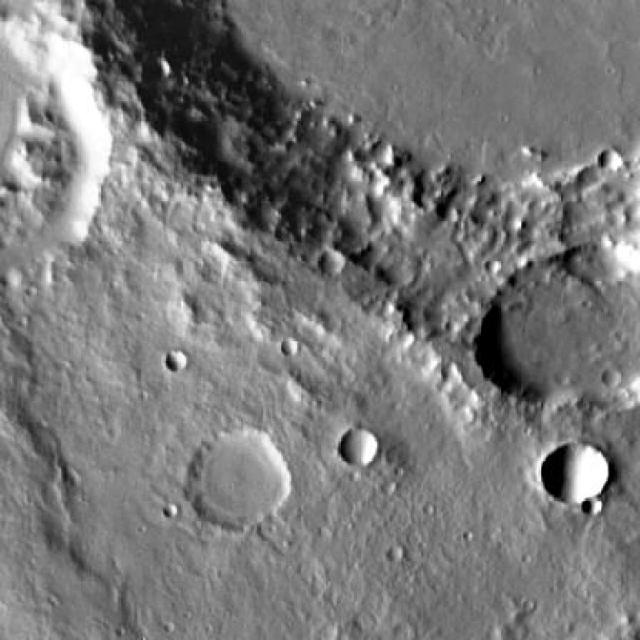crater: (106, 7, 640, 313), (481, 267, 625, 404), (524, 237, 640, 404), (191, 426, 295, 526), (547, 438, 615, 502), (345, 426, 383, 463), (319, 247, 350, 276), (599, 153, 621, 173), (588, 496, 608, 515), (169, 353, 189, 372), (608, 364, 628, 382), (279, 338, 298, 356)
